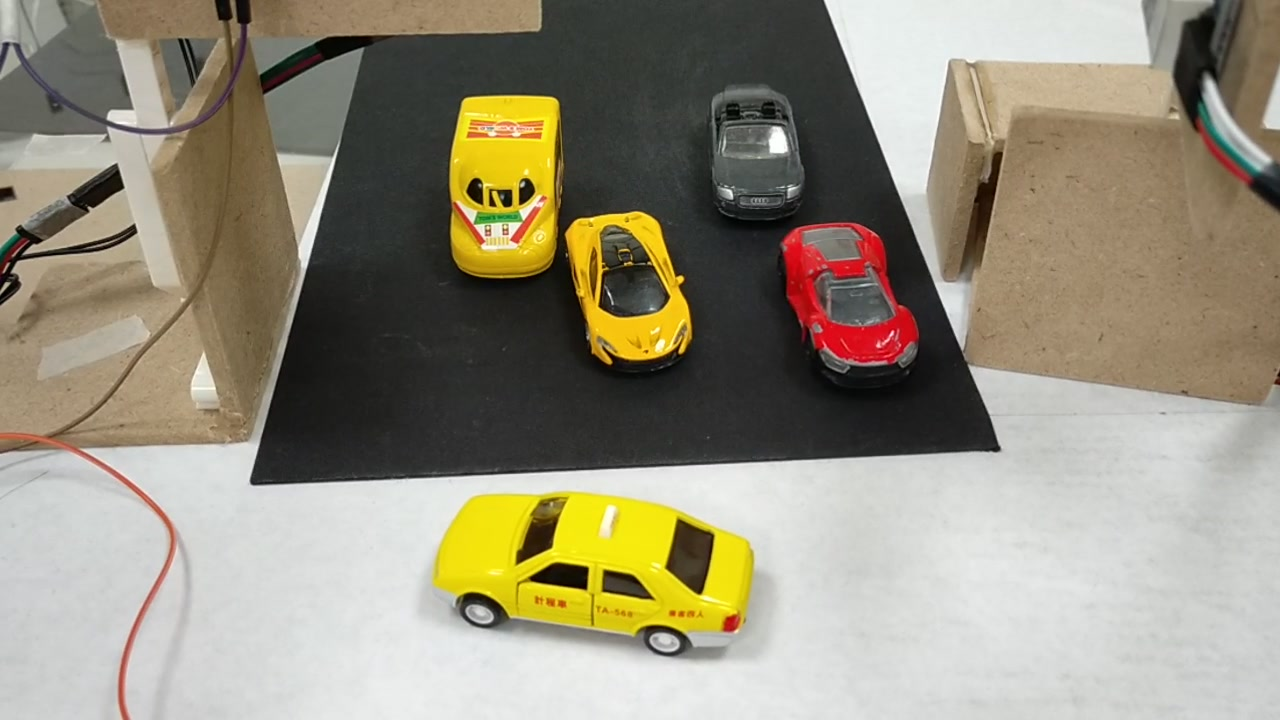car: (430, 495, 755, 661), (776, 221, 921, 385), (561, 213, 693, 370), (702, 83, 811, 221)
